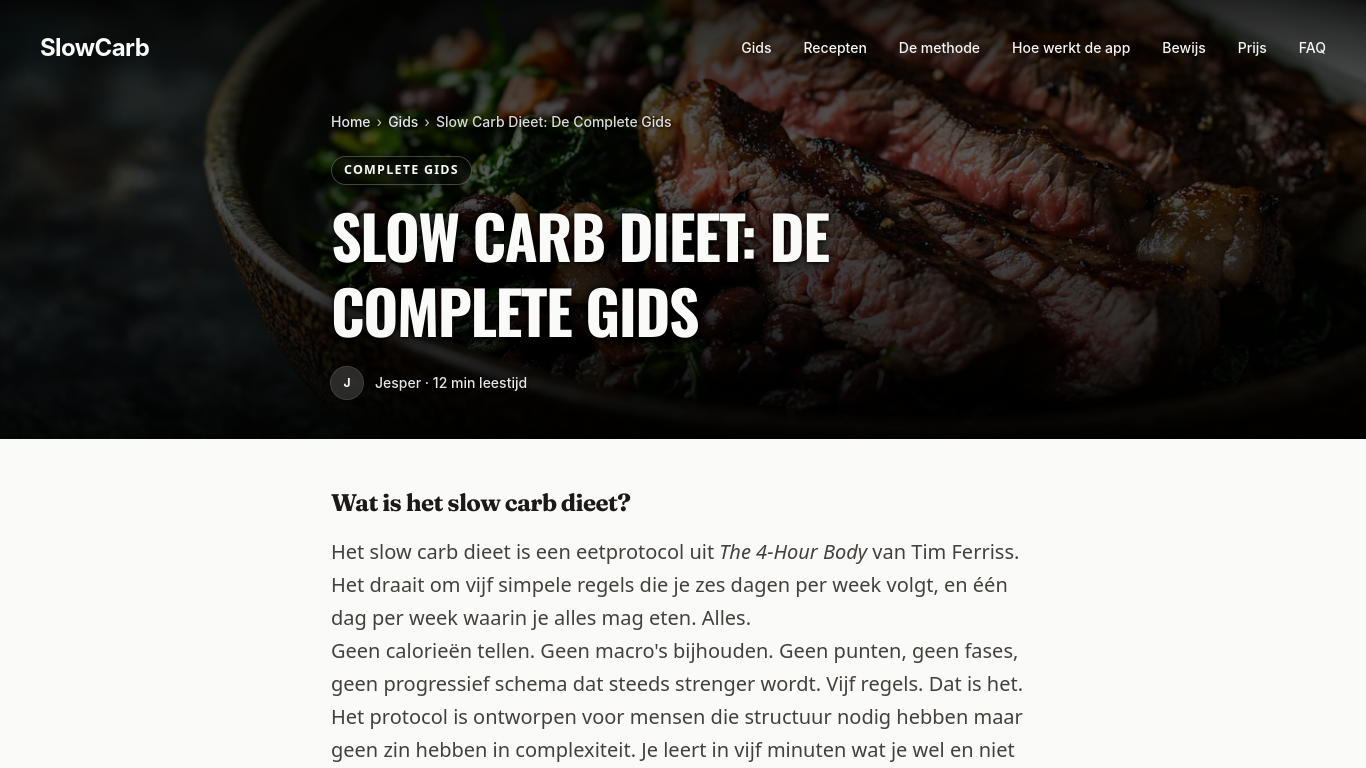
Test case: Guide routes › lets the article breadcrumb navigate back to the guide index
Expected: the heading "Slow Carb Dieet: De Complete Gids" is shown, top-left (331, 190), bottom-right (828, 354)
Click the link "Gids" next to "Home": point(403, 122) top-left (388, 113), bottom-right (418, 130)
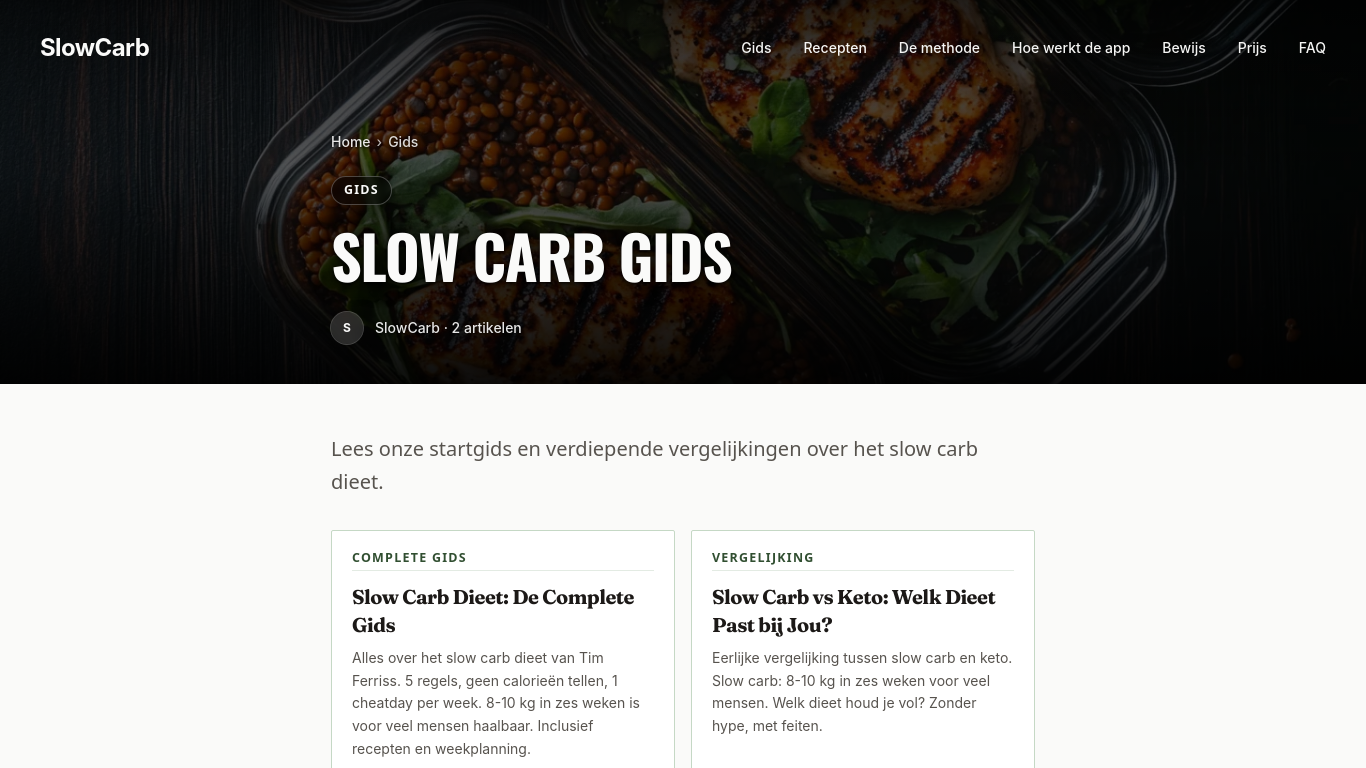
Result: the heading "Slow Carb Gids" is shown at top-left (331, 210), bottom-right (732, 299)
